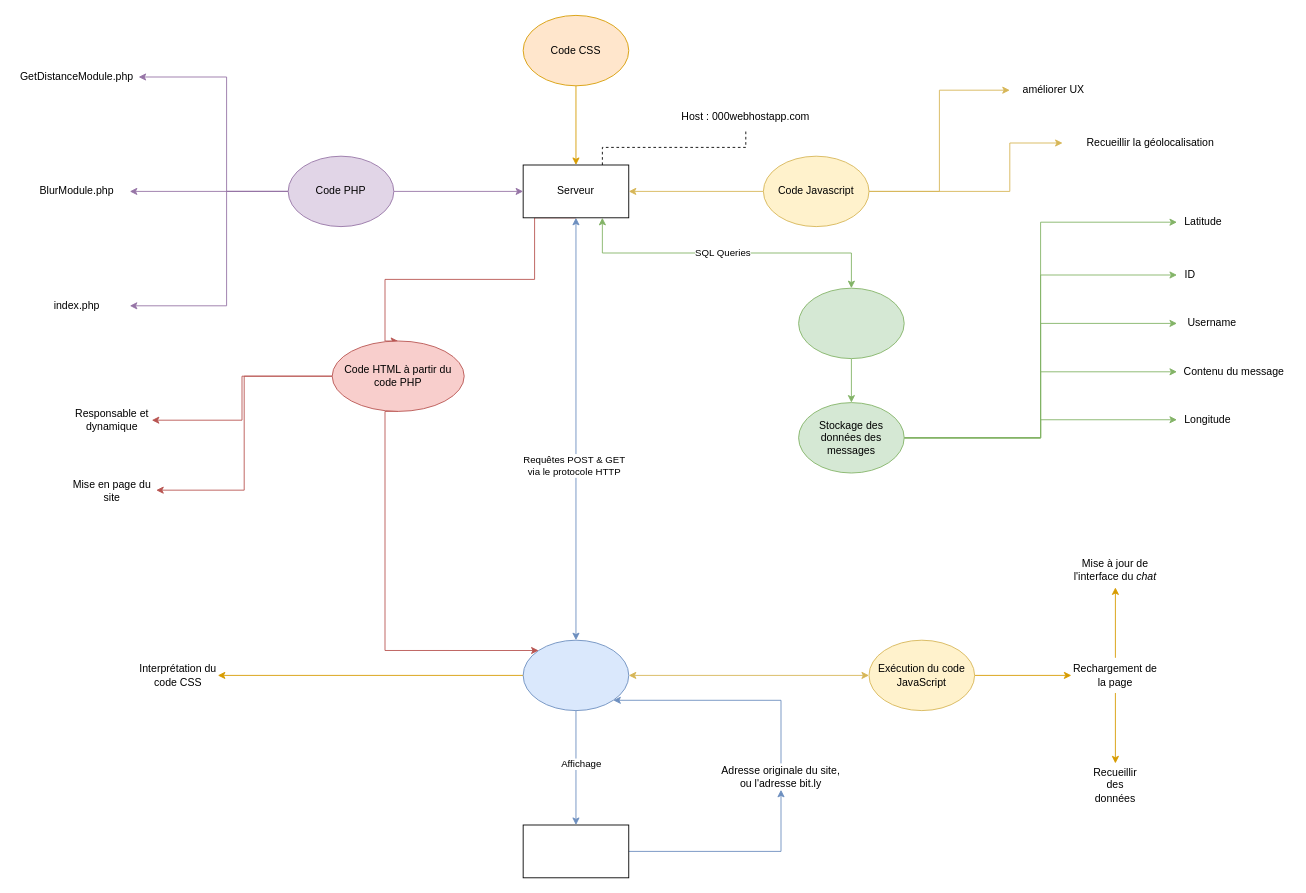
Image size: 1306x893. Some labels were removed from this diagram. Each missing label, with the centre of its shape:
"Client (utilisateur se connectant au site)" goes at point (575, 851).
"Database" goes at point (851, 323).
"Web browser" goes at point (575, 675).
